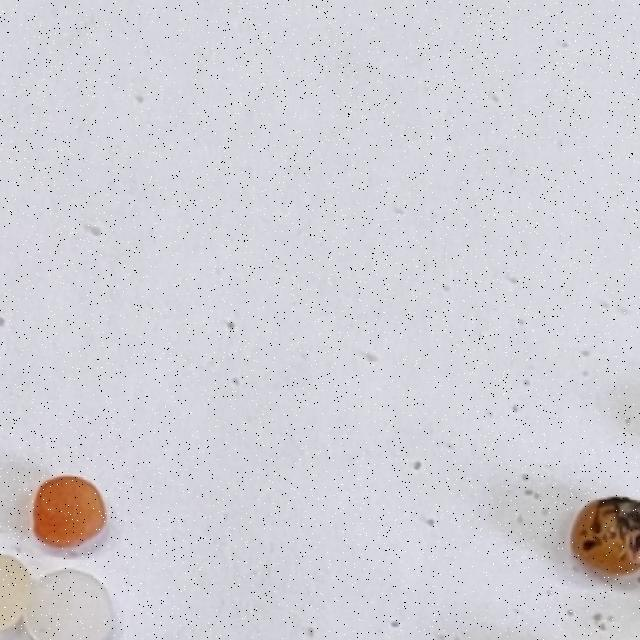beads: (22, 571, 113, 640), (32, 475, 109, 551), (574, 499, 640, 575)
